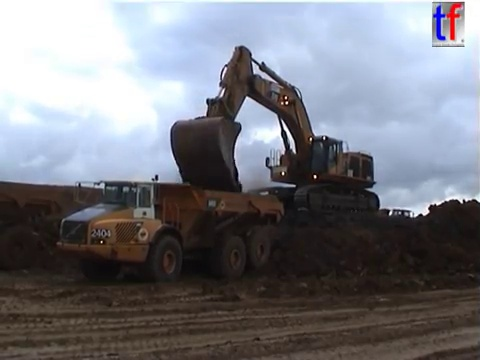excavator: (167, 43, 384, 216)
truck: (54, 173, 288, 283), (1, 179, 157, 276), (331, 205, 418, 237)
